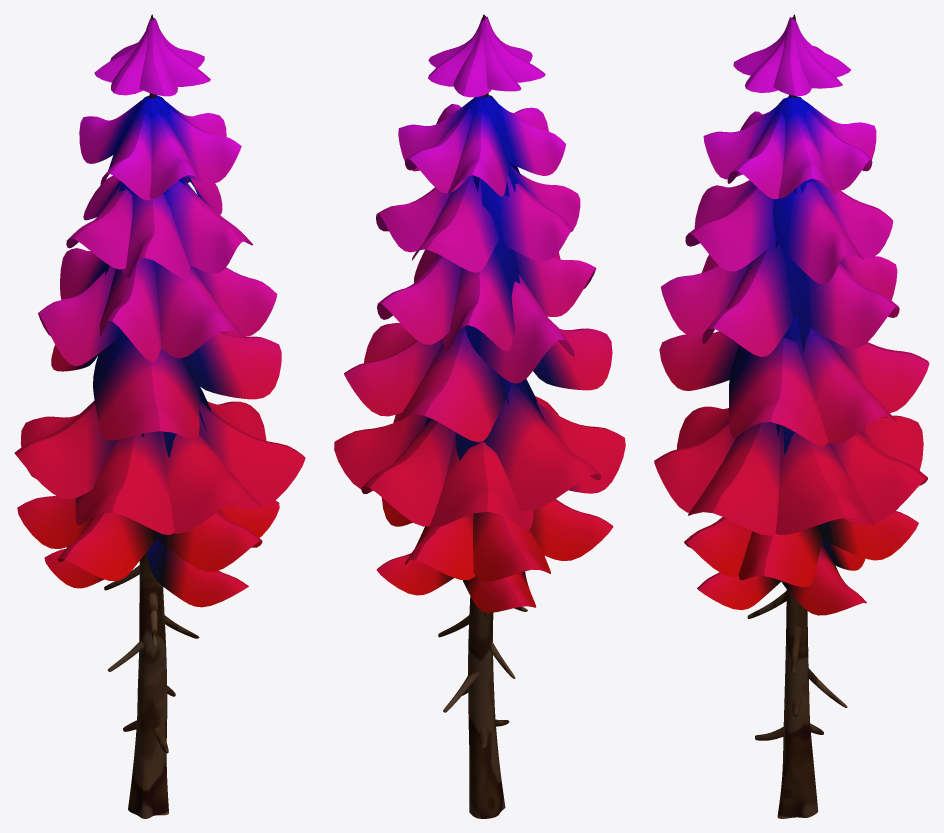
The model's file is PT_Pine_Tree_03_green_Edited.fbx.
3 views of the same model, side by side, from view 1: azimuth 30°, elevation 25°; view 2: azimuth 150°, elevation 25°; view 3: azimuth 270°, elevation 25° (orthographic).
Visible parts, largest first — view 1: PT_Pine_Tree_03_green_LOD0; view 2: PT_Pine_Tree_03_green_LOD0; view 3: PT_Pine_Tree_03_green_LOD0.
Part boxes in pixels (x1,y1,x2,y2): PT_Pine_Tree_03_green_LOD0: (14, 14, 305, 818); PT_Pine_Tree_03_green_LOD0: (334, 14, 625, 818); PT_Pine_Tree_03_green_LOD0: (654, 14, 929, 818).
Size of what is drawn, in the model's own units: 293 by 903 by 281.
